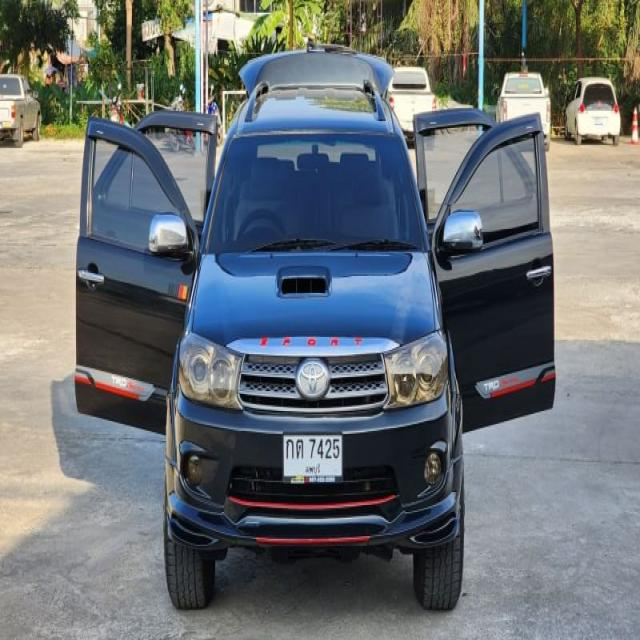license_plate: (282, 431, 345, 482)
